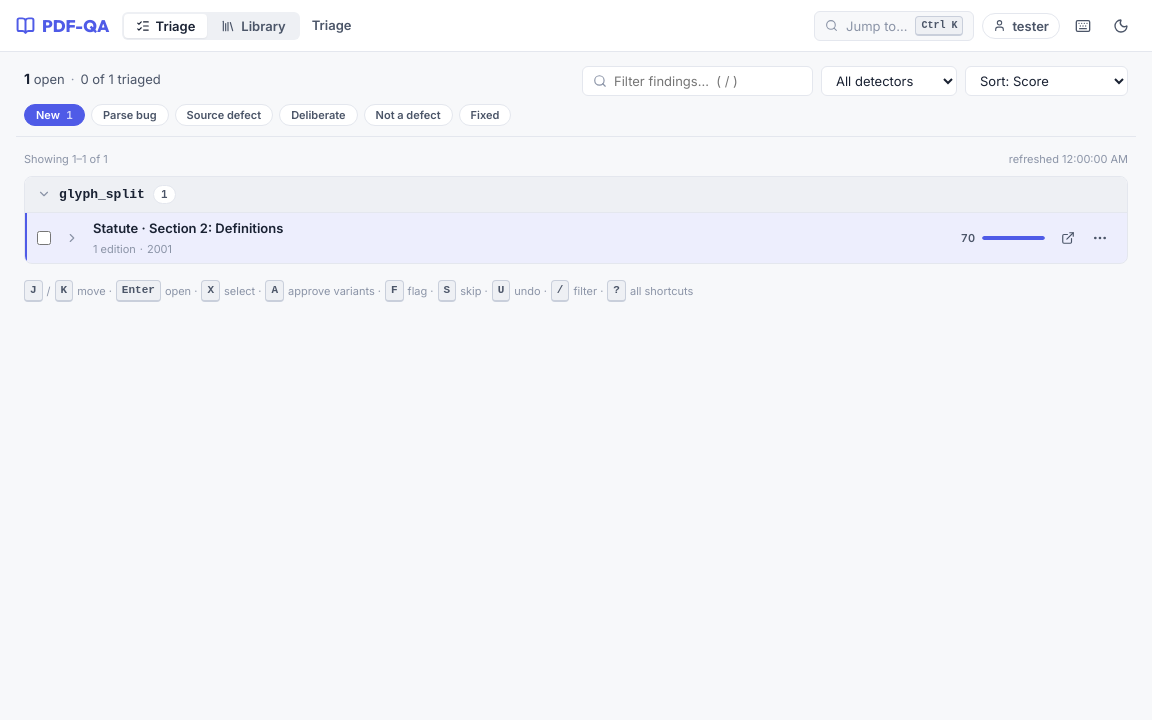
Scenario: triage bulk undo › a rejected batch restores the rows and says so
Expected: the text "Statute · Section 2: Definitions" is shown, top-left (93, 219), bottom-right (283, 238)
Click the checkbox named "Select finding": (44, 238) top-left (37, 231), bottom-right (51, 245)
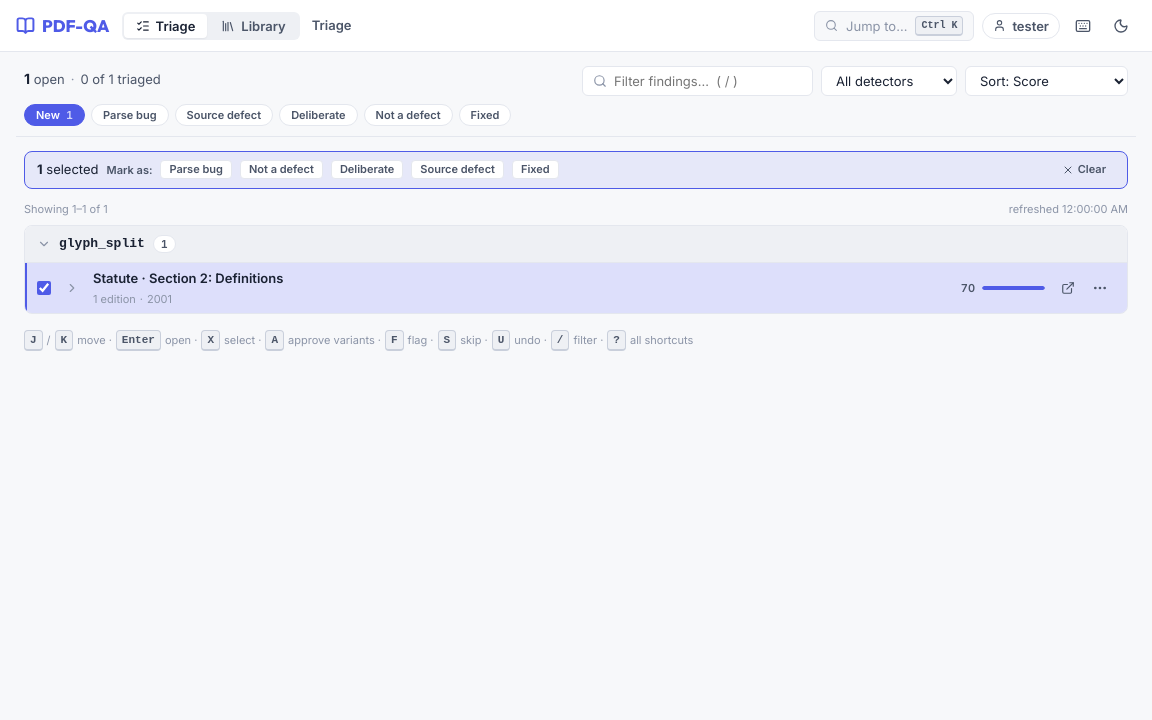
Click the button "Deliberate" in the row of "Mark as:": (367, 170) top-left (331, 160), bottom-right (403, 179)
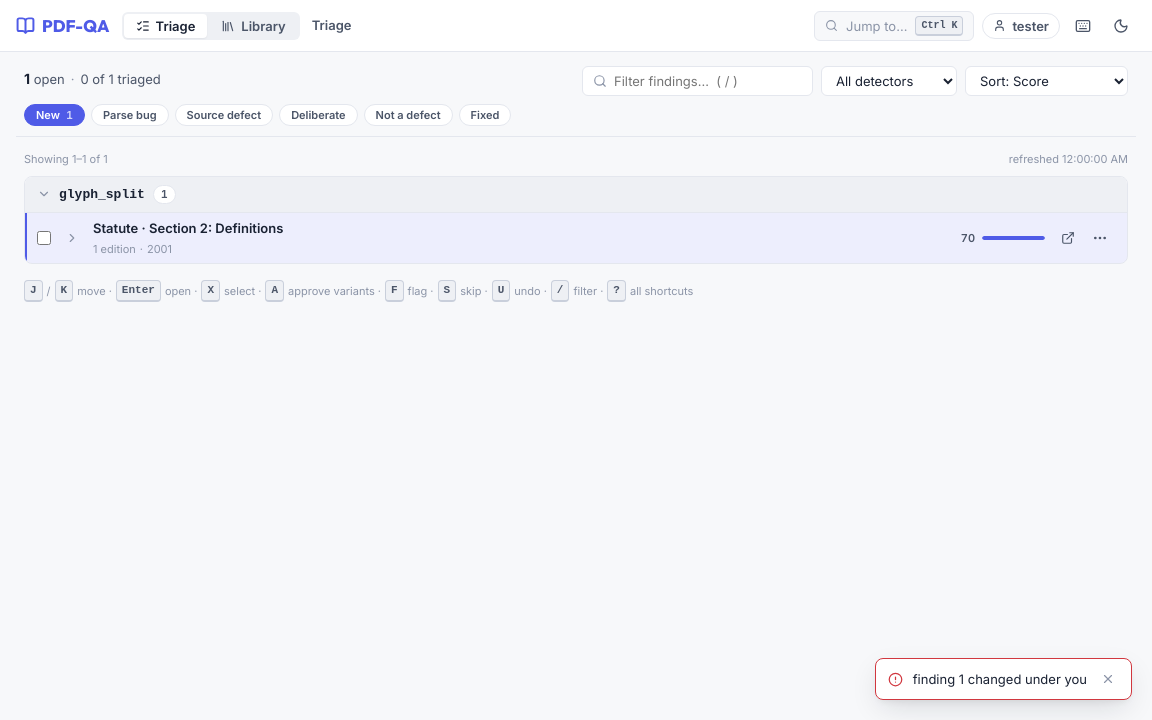
Expected: the text "finding 1 changed under you" is shown, top-left (913, 670), bottom-right (1087, 688)
